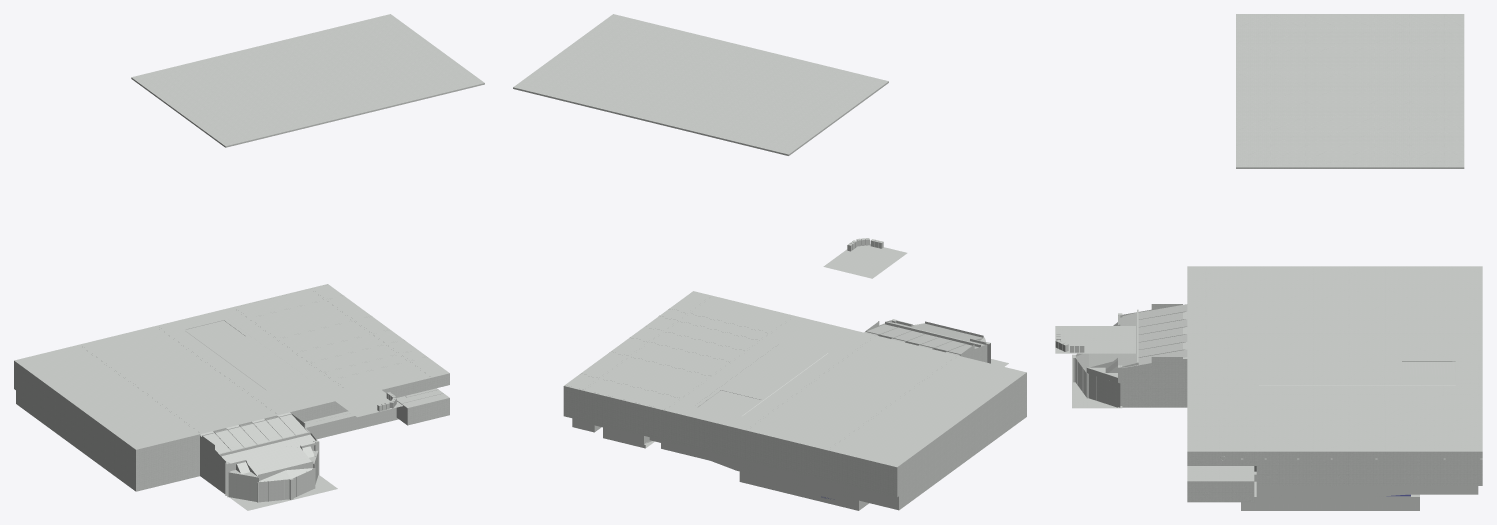
File: Waterworld.obj
3 renders of one model, left to right at view 1: azimuth 30°, elevation 25°; view 2: azimuth 150°, elevation 25°; view 3: azimuth 270°, elevation 25°, orthographic. The views are drawn at different scales.
Size of the model in its own units: 200 by 165 by 166.
Materials: 6 (6 with a texture image).
